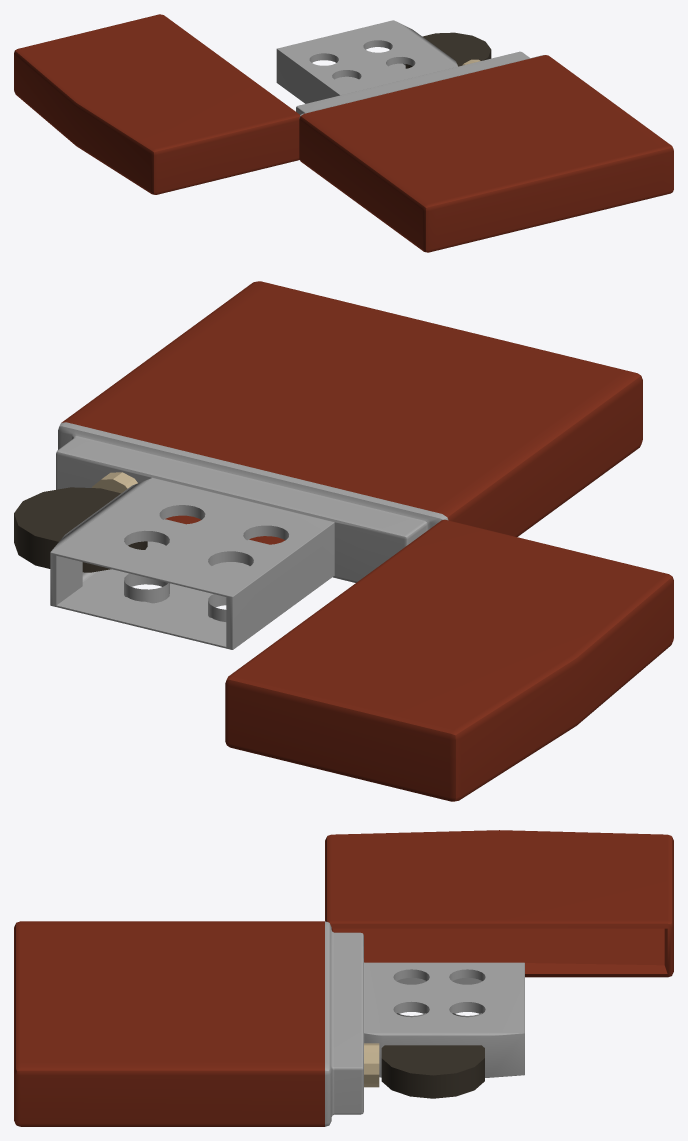
File: Encendedor.fbx
The picture shows the model from 3 angles, top to bottom: view 1: azimuth 30°, elevation 25°; view 2: azimuth 150°, elevation 25°; view 3: azimuth 270°, elevation 25°; orthographic projection. The views are drawn at different scales.
Visible parts, largest first — view 1: pCube9, pCube5, pCylinder12; view 2: pCube9, pCube5, pCylinder12; view 3: pCube9, pCube5, pCylinder12, pCylinder11.
Boxes of the visible parts, bbox=[...] form: pCube9: bbox=[276, 20, 673, 252]; pCube5: bbox=[14, 14, 299, 194]; pCylinder12: bbox=[405, 32, 491, 68]; pCube9: bbox=[50, 281, 642, 649]; pCube5: bbox=[225, 519, 673, 801]; pCylinder12: bbox=[14, 487, 147, 572]; pCube9: bbox=[14, 921, 524, 1126]; pCube5: bbox=[325, 830, 673, 977]; pCylinder12: bbox=[381, 1045, 484, 1098]; pCylinder11: bbox=[364, 1043, 379, 1087].
Size of the model in its own units: 4.21 by 0.4808 by 4.82.
